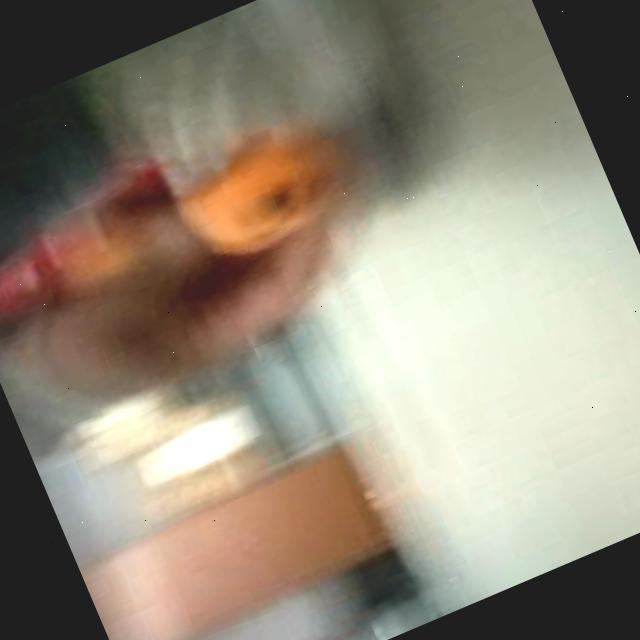ping-pong-ball: (160, 104, 364, 272)
